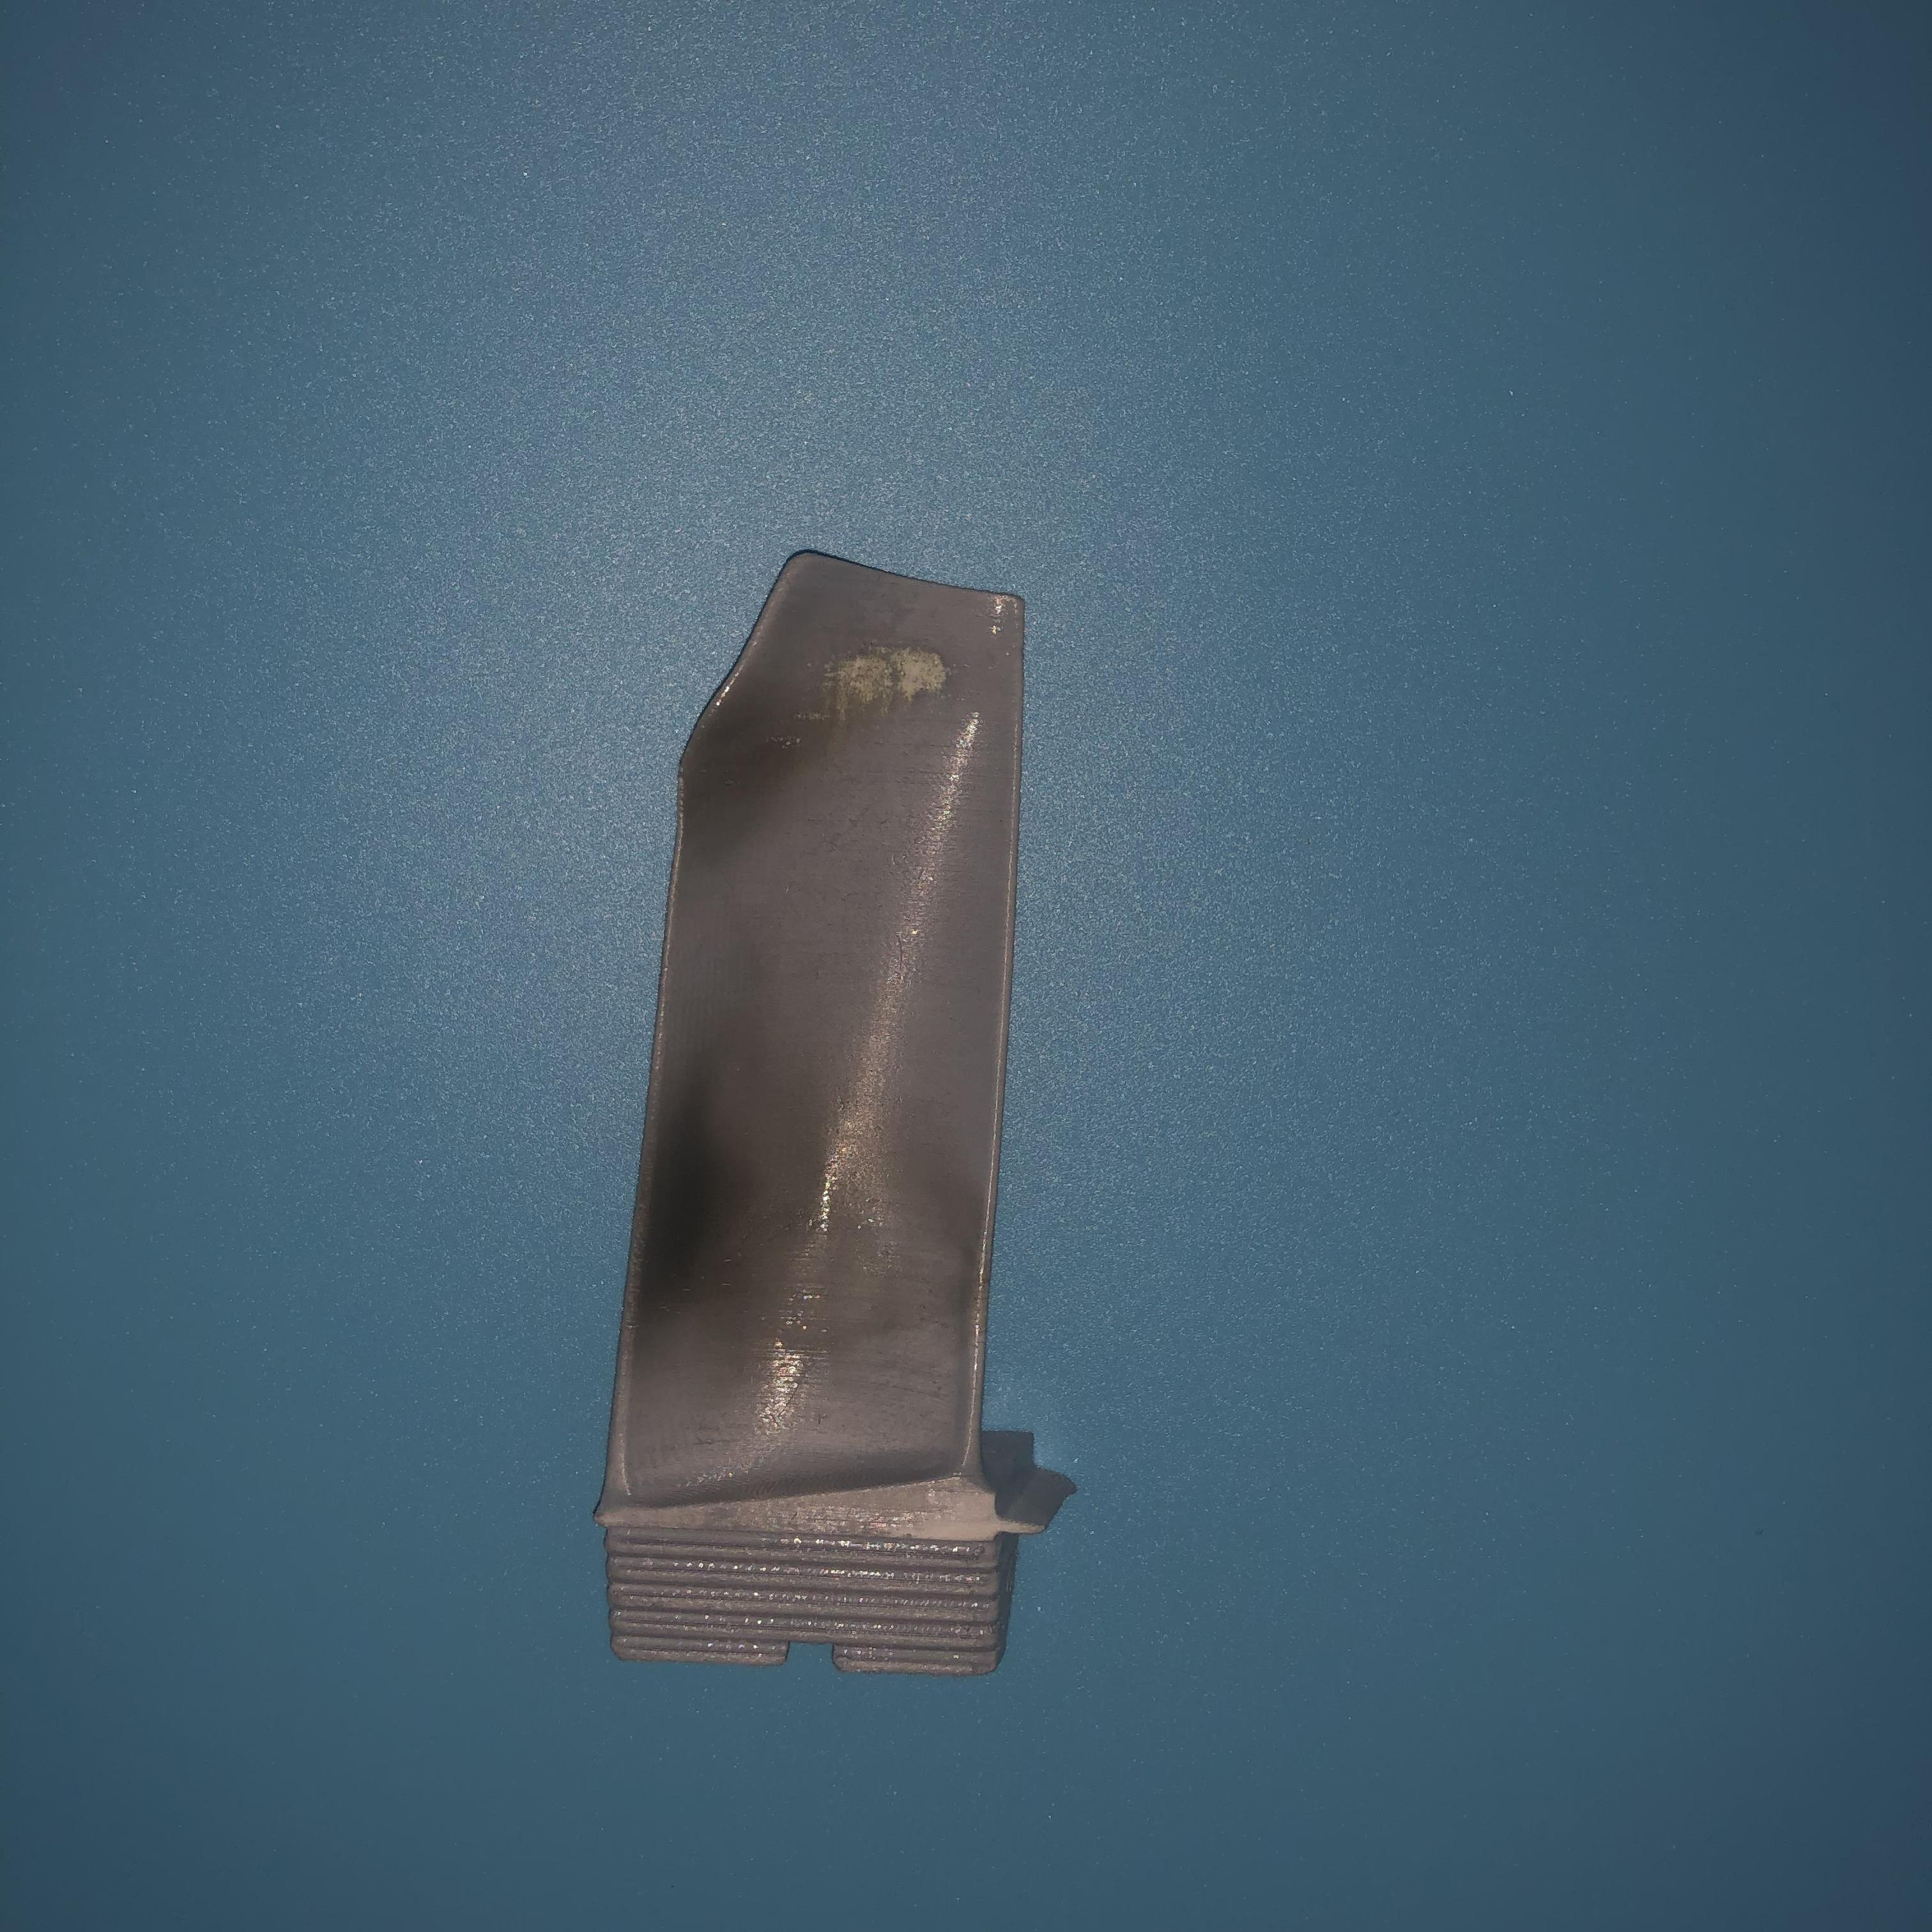ablation: (642, 1040, 978, 1325), (679, 658, 994, 816)
